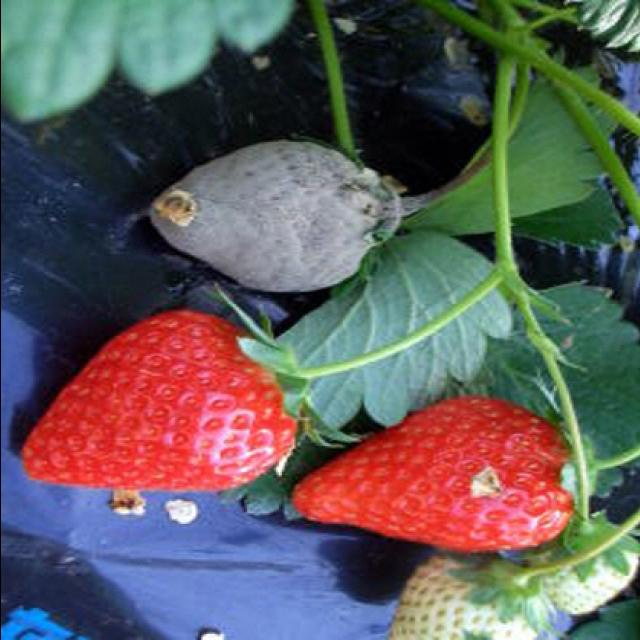Gray Mold: (148, 140, 398, 295)
